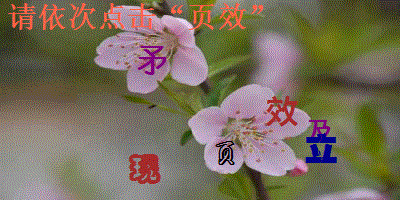result: (187, 2, 248, 31)
text: (264, 93, 299, 130), (127, 151, 162, 185), (304, 132, 339, 166), (136, 43, 168, 76), (307, 117, 333, 144), (213, 139, 238, 167)
